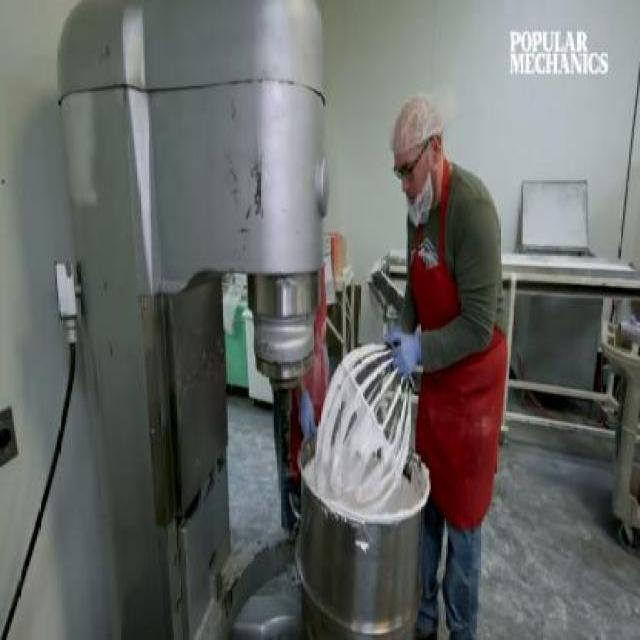gloved_hand: (381, 310, 432, 386)
